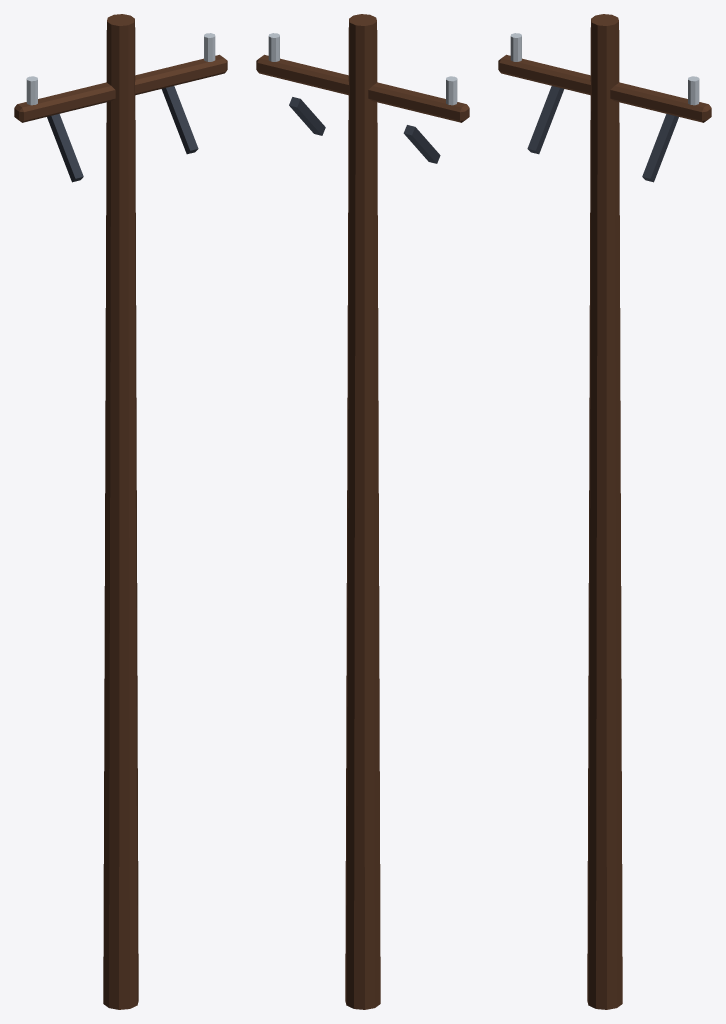
Rendered from power_pole.glb.
3 renders of one model, left to right at view 1: azimuth 30°, elevation 25°; view 2: azimuth 150°, elevation 25°; view 3: azimuth 330°, elevation 25°, orthographic.
Visible parts, largest first — view 1: power_pole; view 2: power_pole; view 3: power_pole.
Part boxes in pixels (x1=…): power_pole: x1=14, y1=14, x2=227, y2=1009; power_pole: x1=256, y1=14, x2=469, y2=1009; power_pole: x1=498, y1=14, x2=711, y2=1009.
Bounding box in the file's own units: 2 × 9 × 0.4754.
1 material, 1 textured.
